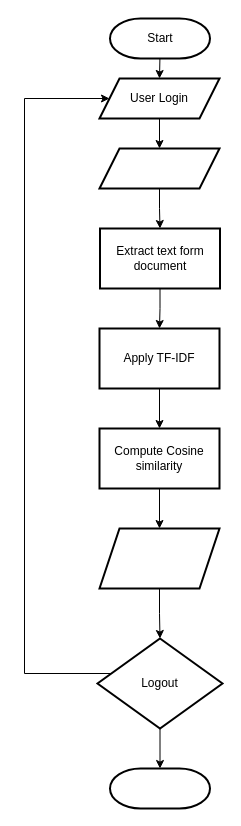
Image size: 241x826. Some labels were removed from this diagram. The shapes that lost their labels are listed below. From the top down, each one's box as (x1, y1, x2, y2) in pixels, then its label:
(98, 147, 220, 189): Upload Document
(98, 527, 220, 589): Display Result Score
(108, 767, 210, 809): End
